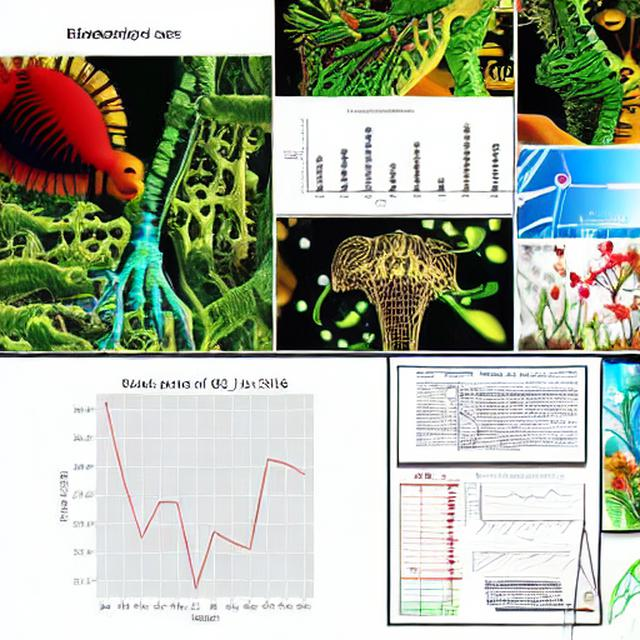Graph: (23, 361, 378, 627), (277, 105, 458, 210), (463, 474, 577, 541)
